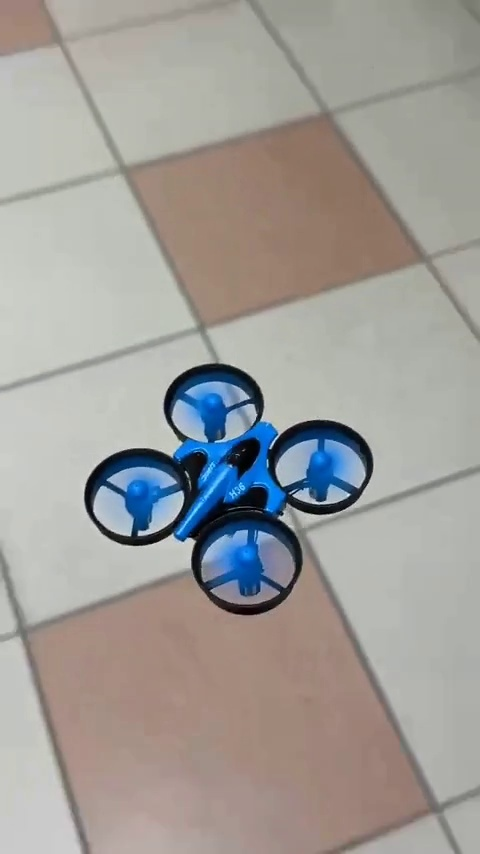drone: (86, 364, 375, 611)
